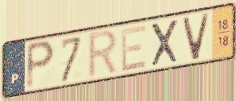7: (60, 34, 83, 84)
E: (120, 23, 148, 74)
P: (25, 39, 58, 92)
R: (86, 27, 120, 81)
V: (181, 11, 212, 63)
X: (149, 17, 180, 69)
